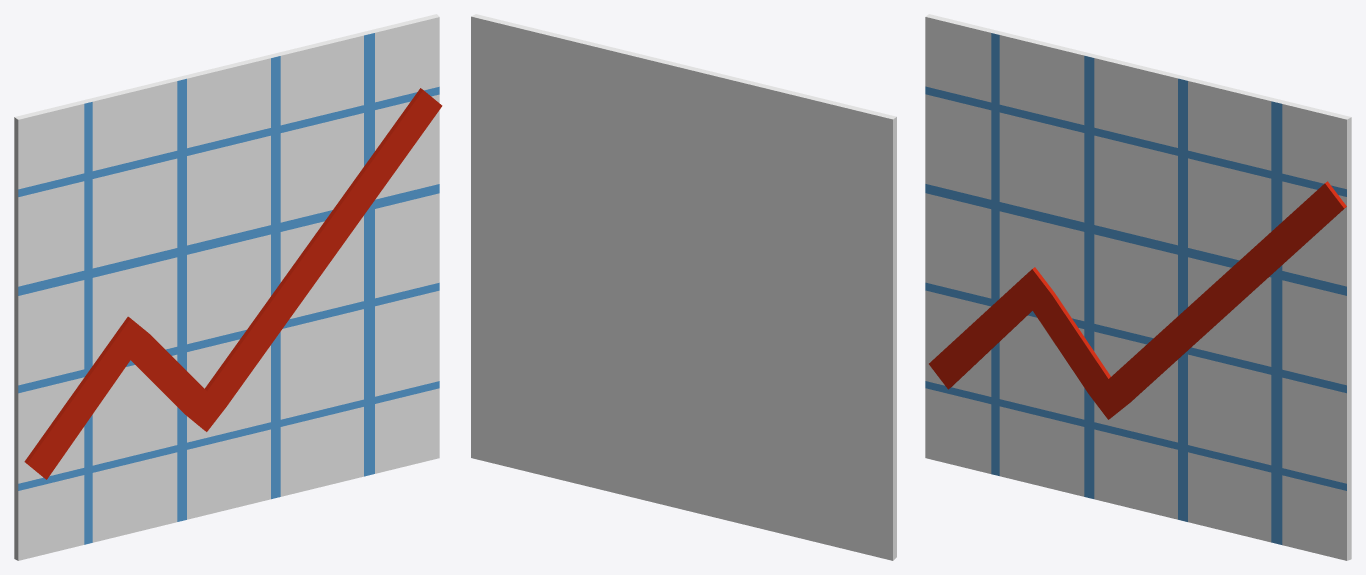
The model's file is management_of_companies_and_enterprises.gltf.
3 renders of one model, left to right at view 1: azimuth 30°, elevation 25°; view 2: azimuth 150°, elevation 25°; view 3: azimuth 330°, elevation 25°, orthographic.
Visible parts, largest first — view 1: Management of Companies and Enterprises; view 2: Management of Companies and Enterprises; view 3: Management of Companies and Enterprises.
Part boxes in pixels (x1=…): Management of Companies and Enterprises: x1=14, y1=14, x2=442, y2=560; Management of Companies and Enterprises: x1=471, y1=14, x2=896, y2=560; Management of Companies and Enterprises: x1=925, y1=14, x2=1351, y2=560.
Bounding box in the file's own units: 1.24 × 1.24 × 0.0338.
1 material, 1 textured.
